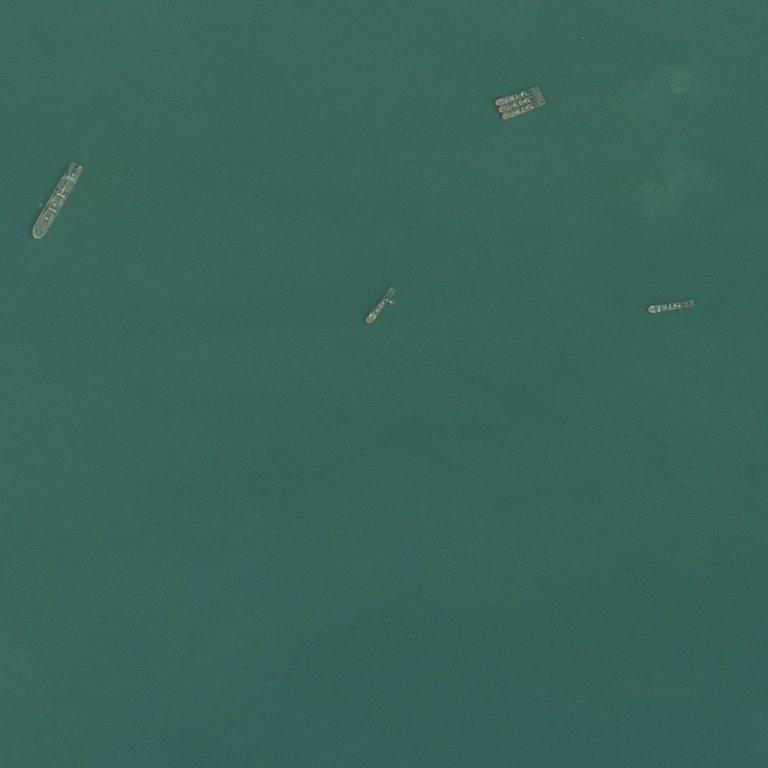ship: (27, 161, 88, 244), (498, 90, 545, 114), (494, 85, 541, 109), (647, 299, 696, 315), (520, 98, 528, 122), (360, 306, 393, 307)
